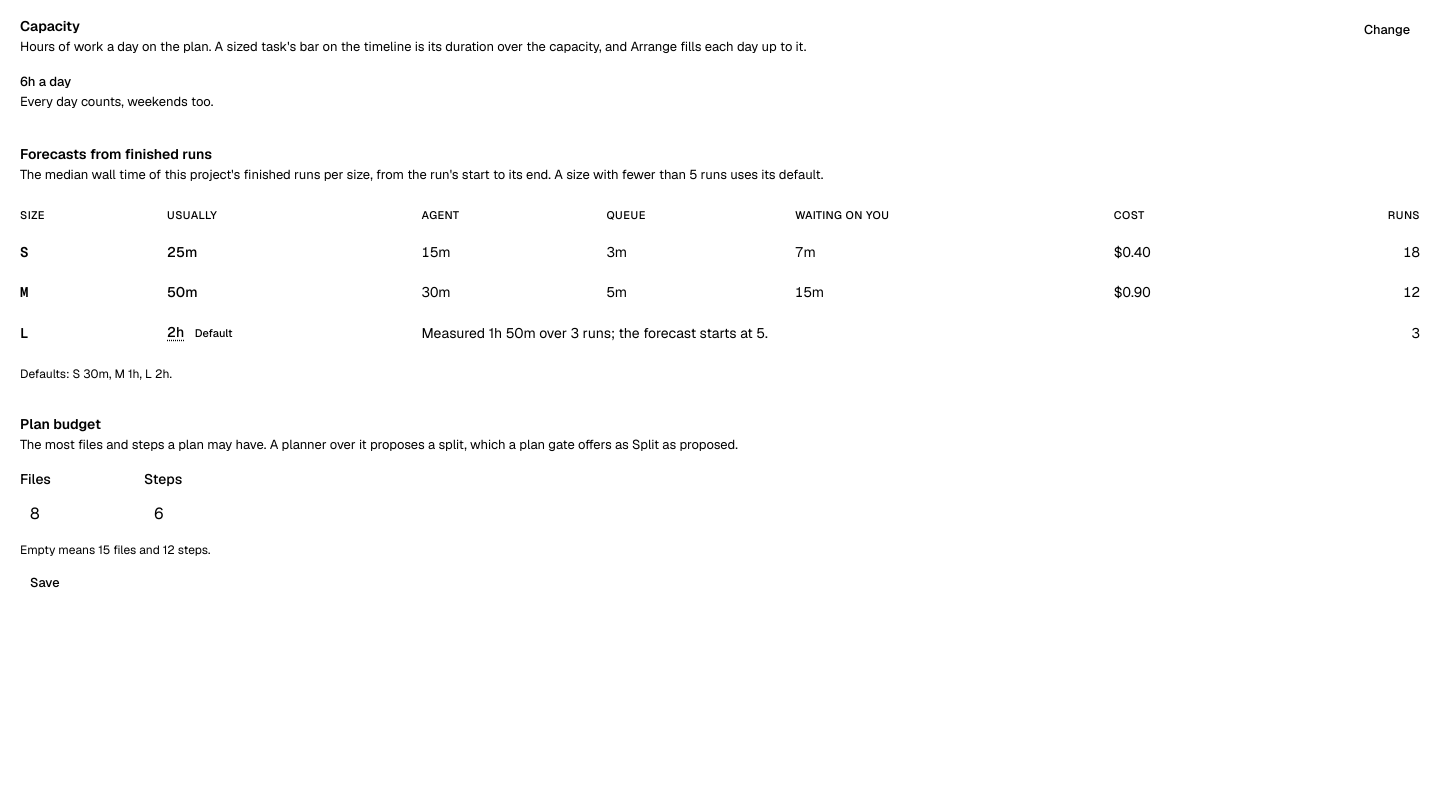
Test: the plan budget shows the defaults while empty and saves files and steps as typed
This screenshot has width=1440, height=810.
expect the element "Plan budget" shows "Empty means 15 files and 12 steps.": met, box [20, 415, 738, 598]
expect the number field labelled "Files" holds "8": met, box [20, 498, 132, 530]
Replace the text in the number field labelled "Steps" with "5" at (200, 514), box [144, 498, 256, 530]
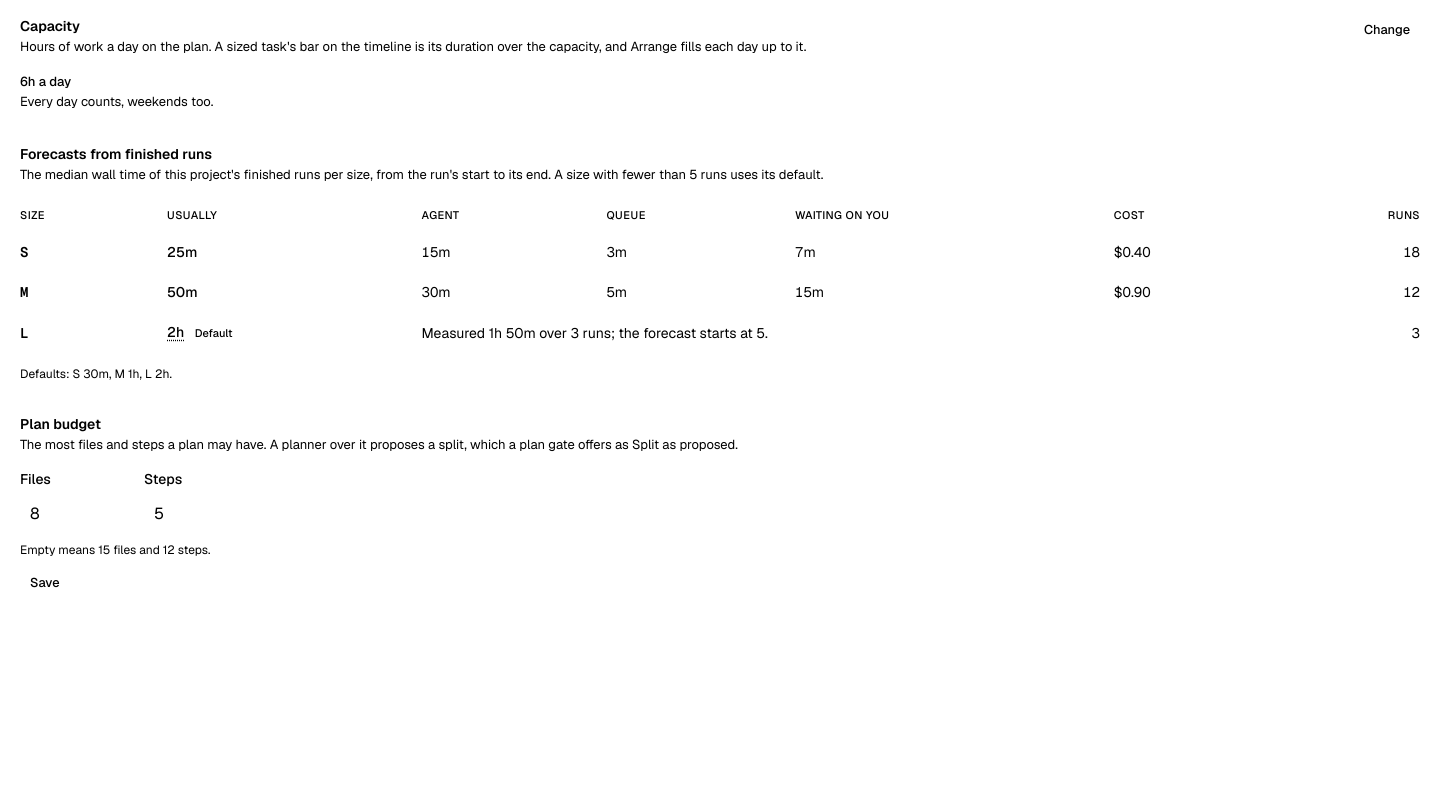
Click the button "Save" at (45, 584), box [20, 570, 70, 598]
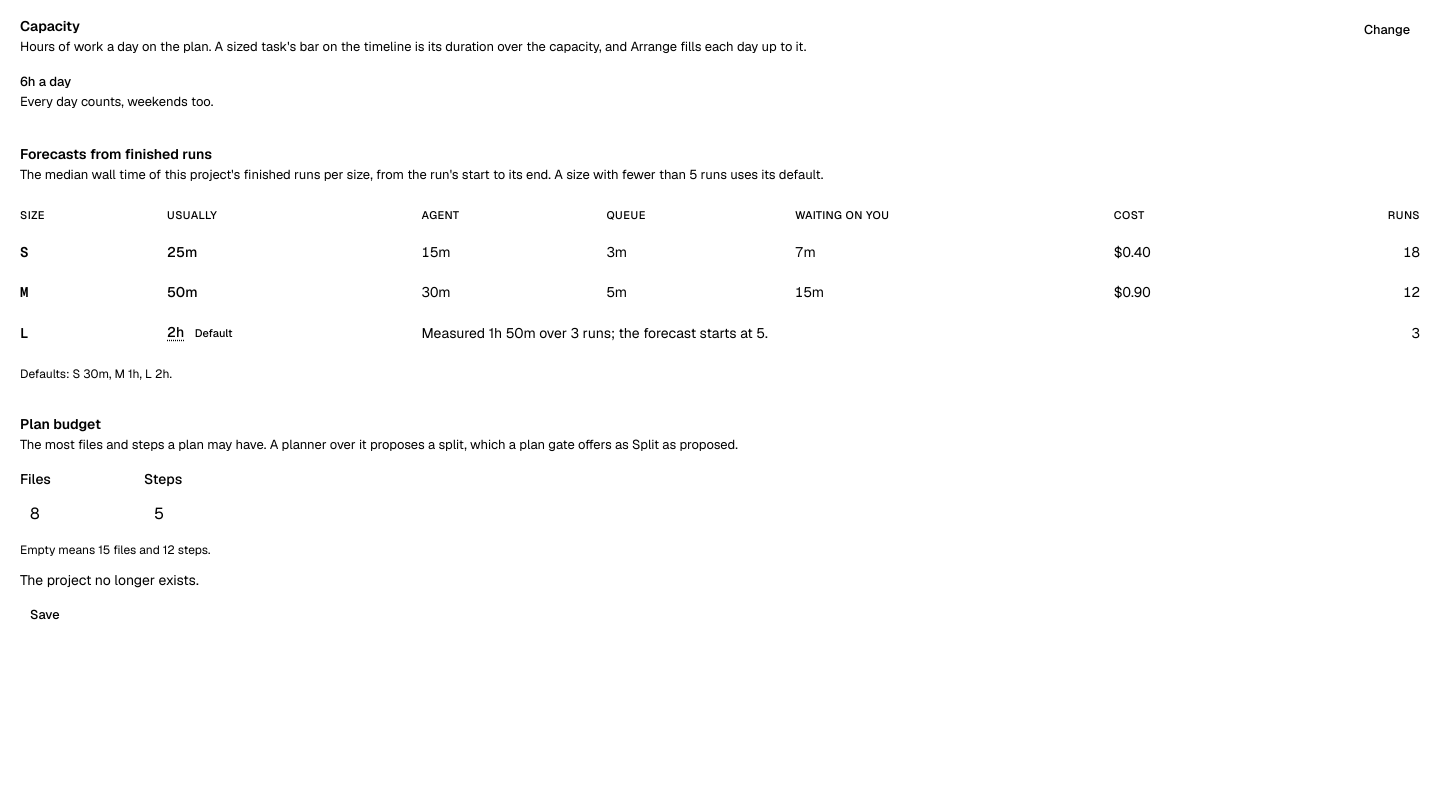
expect the text "The project no longer exists." is shown: met, box [20, 571, 199, 589]
Clear the number field labelled "Steps" at (200, 514), box [144, 498, 256, 530]
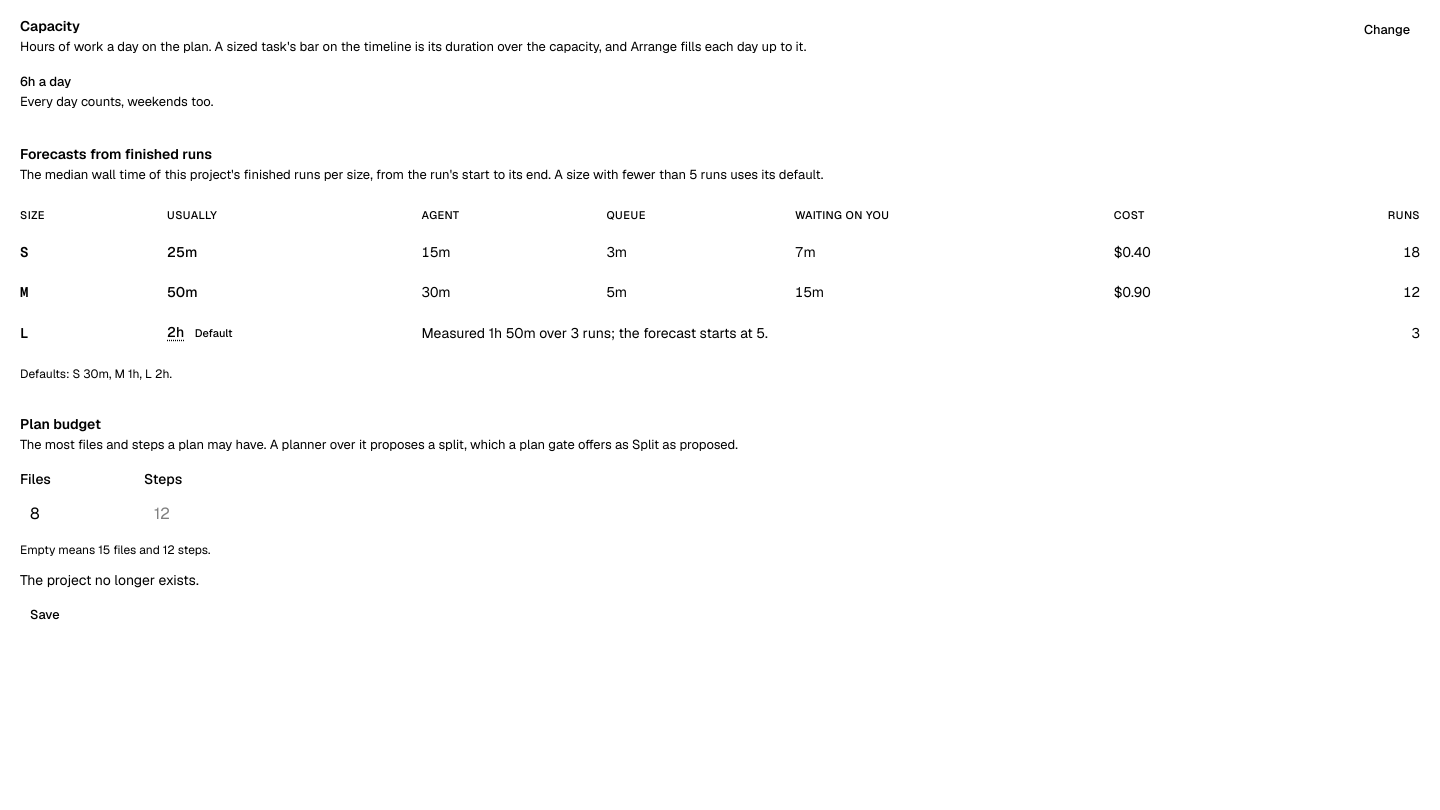
Click the button "Save" at (45, 616), box [20, 602, 70, 630]
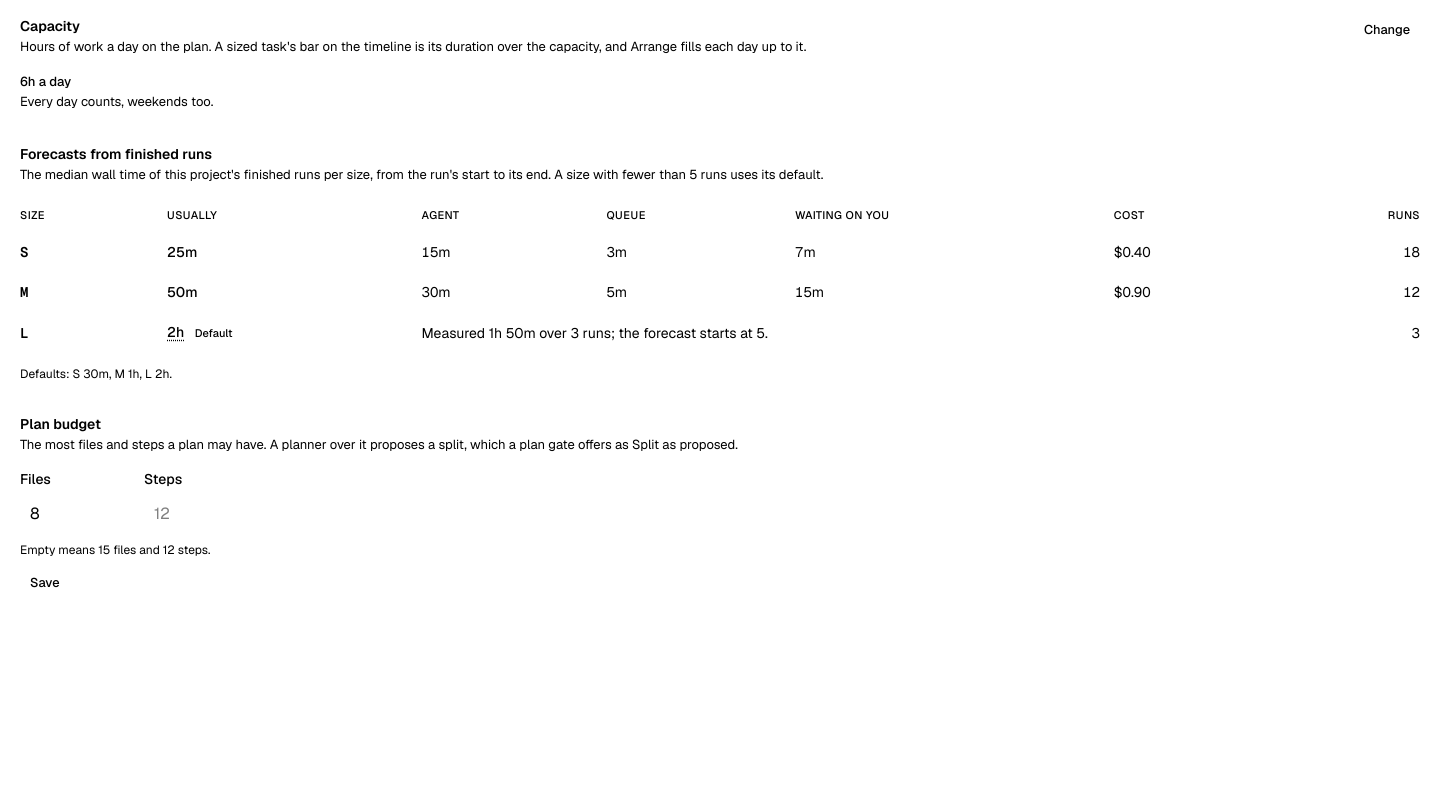
expect the text "The project no longer exists." is gone: met
